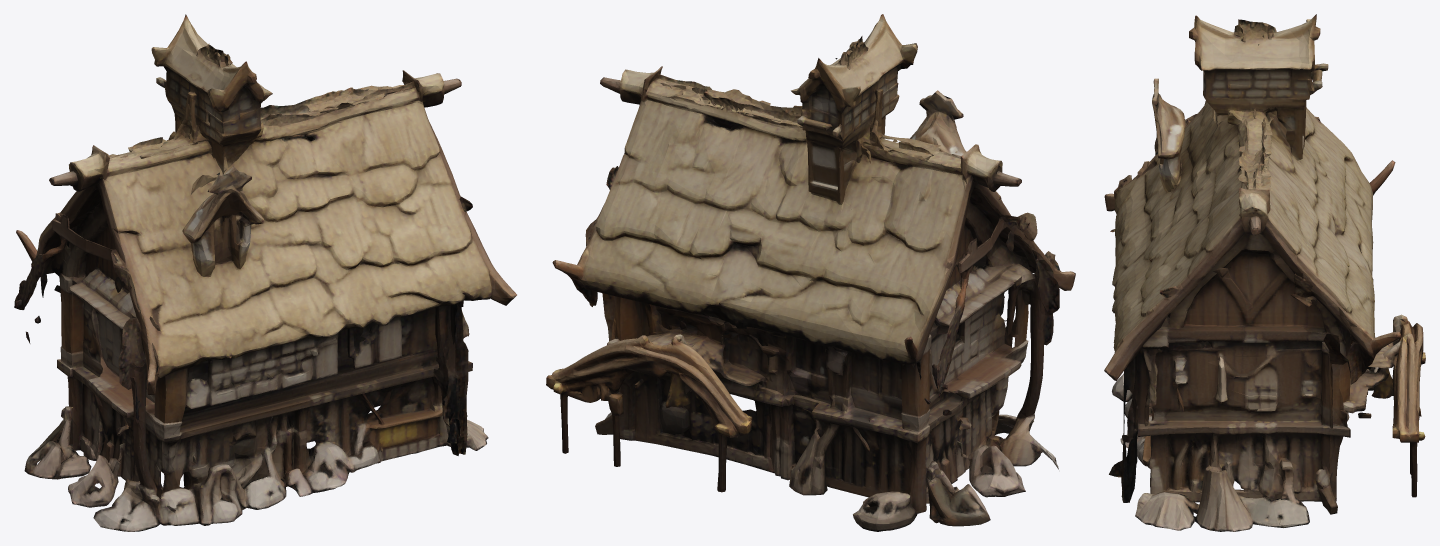
The model's file is building_tavern.glb.
3 views of the same model, side by side, from view 1: azimuth 30°, elevation 25°; view 2: azimuth 150°, elevation 25°; view 3: azimuth 270°, elevation 25° (orthographic). The views are drawn at different scales.
Parts seen in each view (by area): view 1: world; view 2: world; view 3: world.
Boxes of the visible parts, box(x1,y1,x2,y2) form: world: box(14, 14, 516, 531); world: box(546, 14, 1075, 531); world: box(1104, 14, 1425, 531).
Size of the model in its own units: 0.9979 by 0.9807 by 0.6967.
1 material, 1 textured.
